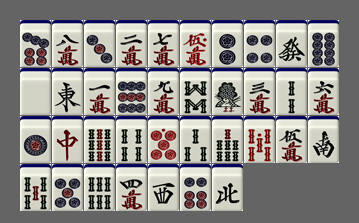0m: (180, 20, 211, 67)
0p: (148, 116, 179, 163)
0s: (244, 116, 275, 163)
1m: (84, 68, 115, 115)
1p: (20, 116, 51, 163)
1s: (212, 68, 243, 115)
1z: (52, 68, 83, 115)
2m: (116, 20, 147, 67)
2p: (212, 20, 243, 67)
2s: (276, 68, 307, 115)
2z: (308, 116, 339, 163)
3m: (244, 68, 275, 115)
3p: (84, 20, 115, 67)
3s: (180, 116, 211, 163)
3z: (148, 164, 179, 211)
4m: (116, 164, 147, 211)
4p: (244, 20, 275, 67)
4s: (116, 116, 147, 163)
4z: (212, 164, 243, 211)
5m: (276, 116, 307, 163)
5p: (52, 164, 83, 211)
5s: (20, 164, 51, 211)
5z: (20, 68, 51, 115)
6m: (308, 68, 339, 115)
6p: (180, 164, 211, 211)
6s: (84, 164, 115, 211)
6z: (276, 20, 307, 67)
7m: (148, 20, 179, 67)
7p: (20, 20, 51, 67)
7s: (212, 116, 243, 163)
7z: (52, 116, 83, 163)
8m: (52, 20, 83, 67)
8p: (308, 20, 339, 67)
8s: (180, 68, 211, 115)
9m: (148, 68, 179, 115)
9p: (116, 68, 147, 115)
9s: (84, 116, 115, 163)
